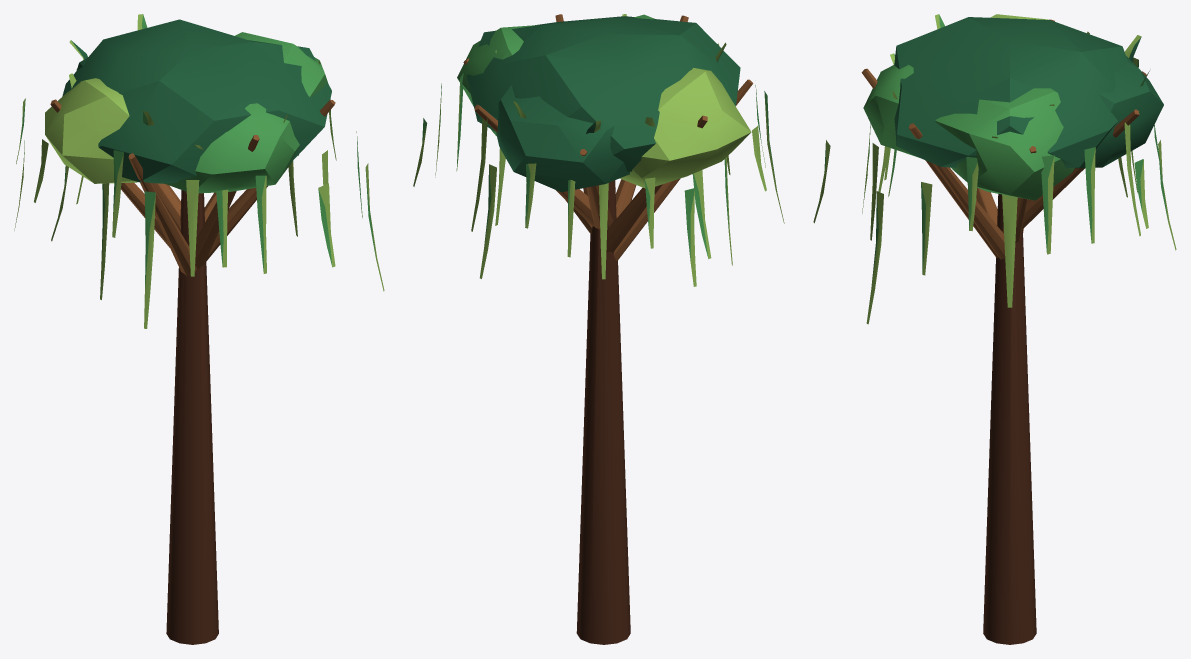
The model's file is tree_willow_lod2.glb.
3 views of the same model, side by side, from view 1: azimuth 30°, elevation 25°; view 2: azimuth 150°, elevation 25°; view 3: azimuth 270°, elevation 25° (orthographic). The views are drawn at different scales.
Visible parts, largest first — view 1: Graceful willow trunk.001; view 2: Graceful willow trunk.001; view 3: Graceful willow trunk.001.
Part boxes in pixels (x1,y1,x2,y2): Graceful willow trunk.001: (14,14,384,644); Graceful willow trunk.001: (413,14,784,644); Graceful willow trunk.001: (813,14,1176,644).
Bounding box in the file's own units: 3.76 × 7.26 × 4.03.
